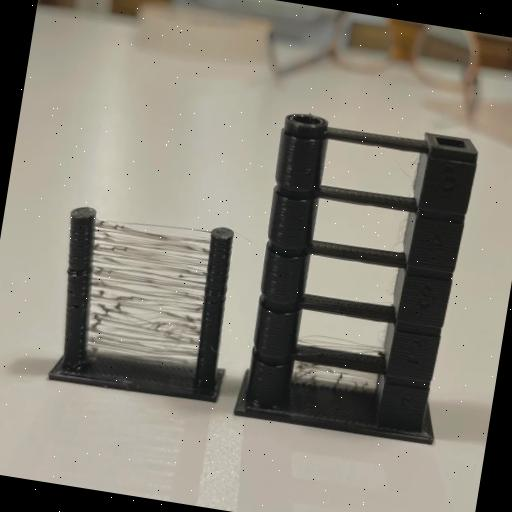stringing: (88, 220, 212, 364), (294, 366, 378, 389)
